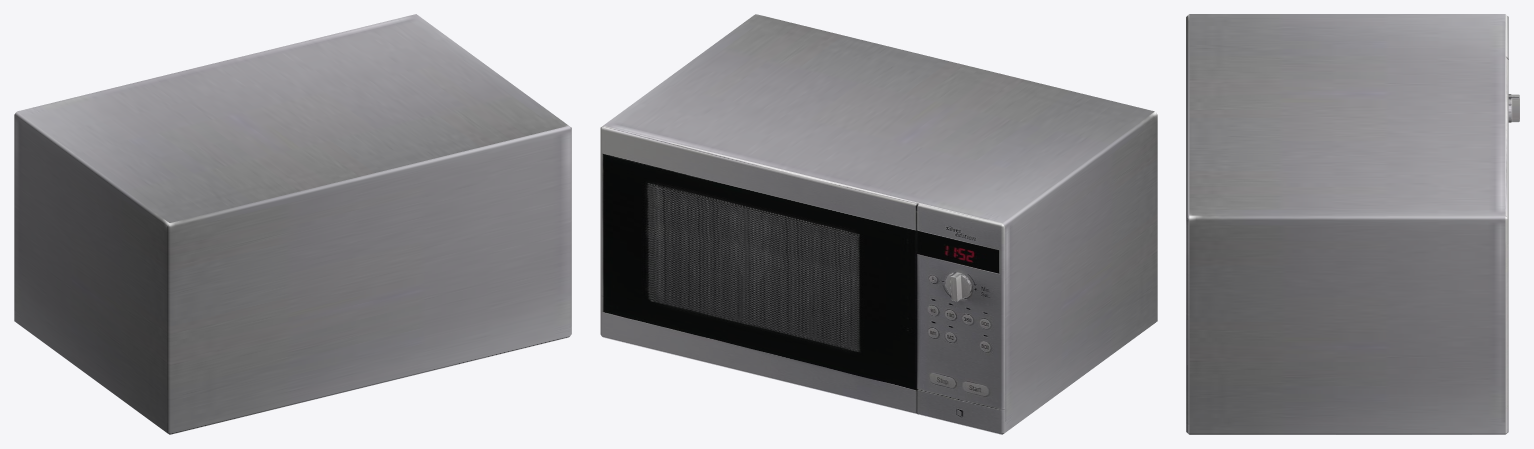
The model's file is Microwave.fbx.
The picture shows the model from 3 angles, left to right: view 1: azimuth 30°, elevation 25°; view 2: azimuth 150°, elevation 25°; view 3: azimuth 270°, elevation 25°; orthographic projection. The views are drawn at different scales.
Visible parts, largest first — view 1: Microwave; view 2: Microwave; view 3: Microwave.
Part boxes in pixels (box(x1,y1,x2,y2)): Microwave: box(14, 14, 571, 434); Microwave: box(600, 14, 1157, 434); Microwave: box(1186, 14, 1519, 434).
Size of the model in its own units: 0.6 by 0.3 by 0.4138.
Materials: 1 (1 with a texture image).
